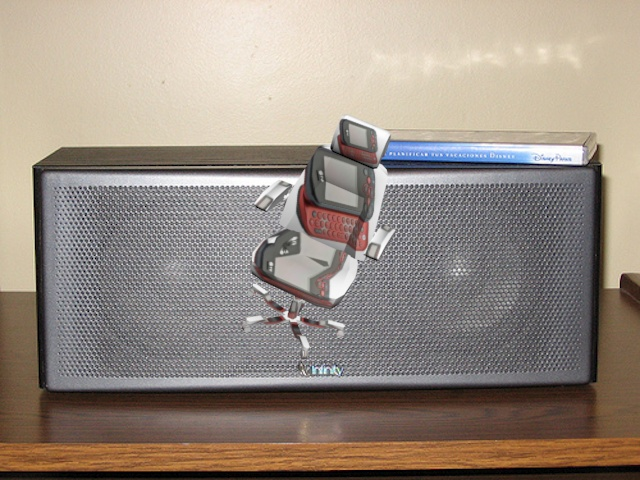desk_chair: (241, 113, 400, 368)
